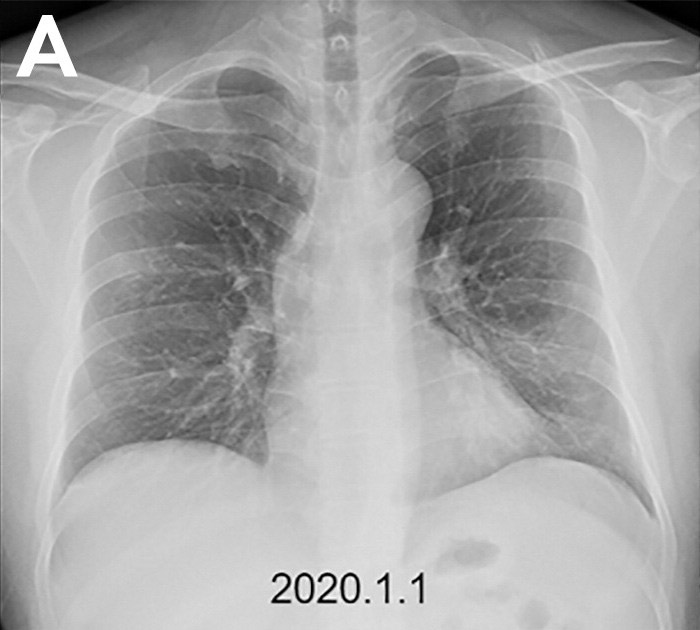Mildw: (384, 45, 657, 525), (52, 62, 325, 518)
